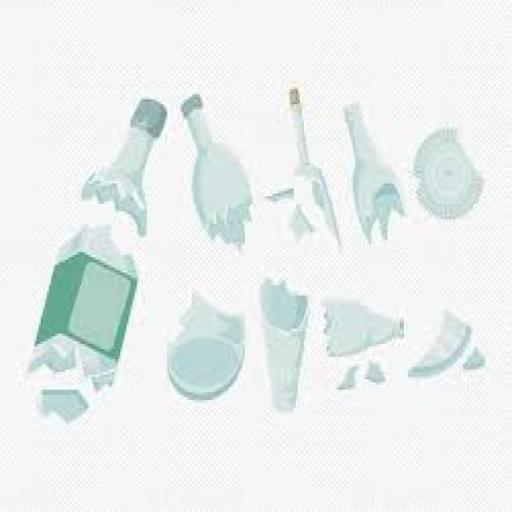glass: (29, 214, 139, 396), (81, 98, 165, 235), (181, 94, 255, 248), (344, 103, 407, 243), (166, 290, 245, 401), (259, 276, 309, 410), (402, 306, 469, 396), (321, 297, 406, 357), (26, 334, 80, 376), (36, 388, 90, 424), (339, 360, 387, 390)
